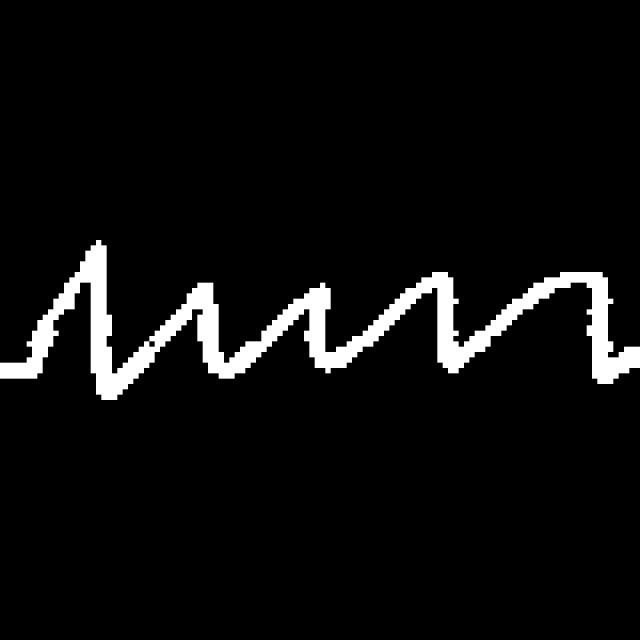resistor: (24, 210, 625, 412)
